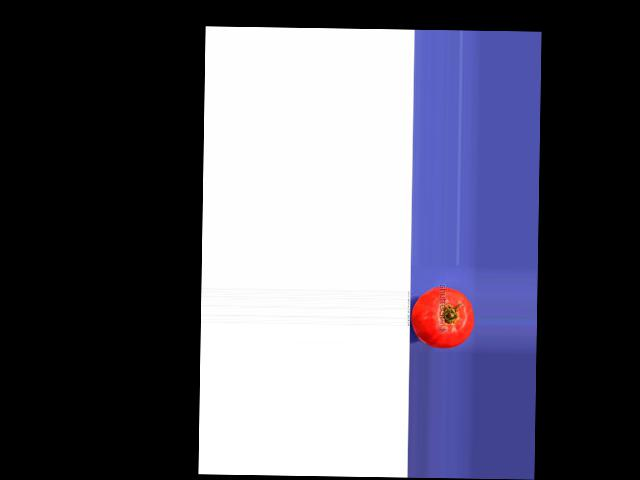tomato: (411, 286, 474, 349)
